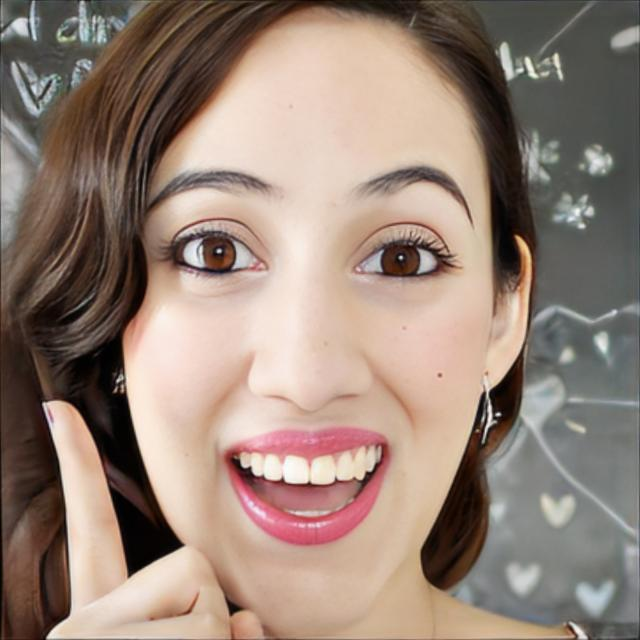surprise: (122, 0, 495, 640)
